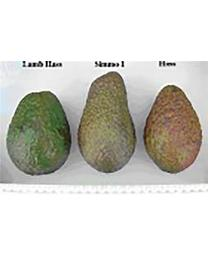avocado: (78, 71, 136, 174), (143, 84, 203, 175), (7, 91, 71, 175)
